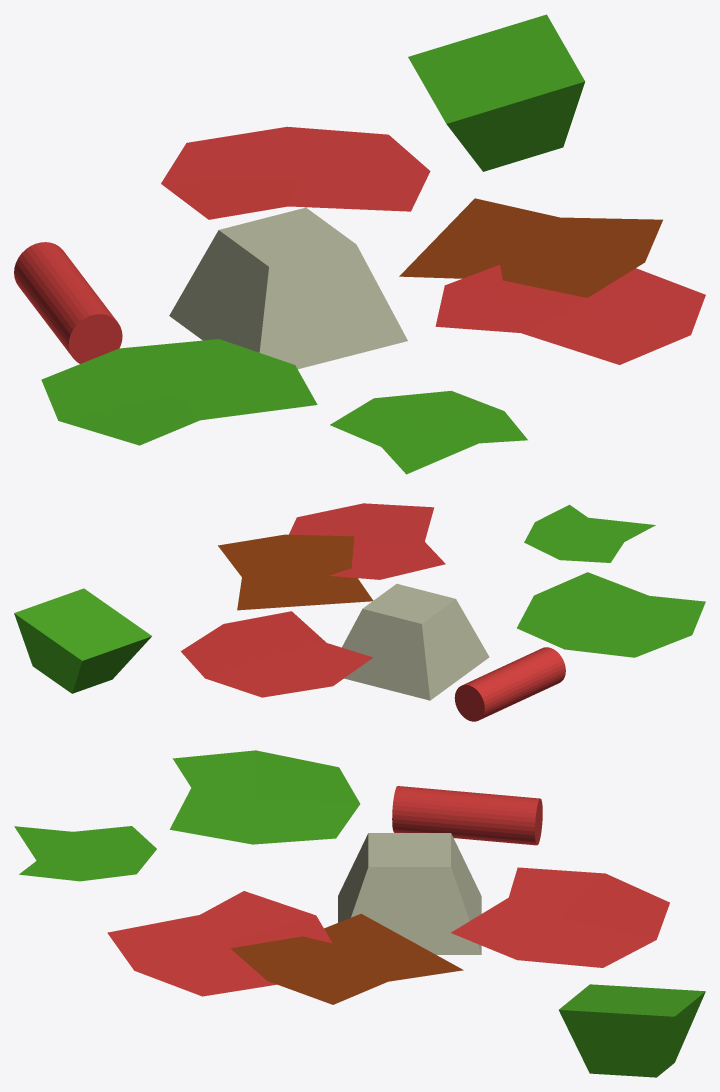
Rendered from Garbage.fbx.
3 views of the same model, one above another, from view 1: azimuth 30°, elevation 25°; view 2: azimuth 150°, elevation 25°; view 3: azimuth 270°, elevation 25° (orthographic). The views are drawn at different scales.
Parts seen in each view (by area): view 1: Trash; view 2: Trash; view 3: Trash.
Part boxes in pixels (<box>): Trash: <box>14,14,705,474</box>; Trash: <box>14,503,705,721</box>; Trash: <box>14,750,705,1077</box>.
Bounding box in the file's own units: 133 × 17.44 × 130.
